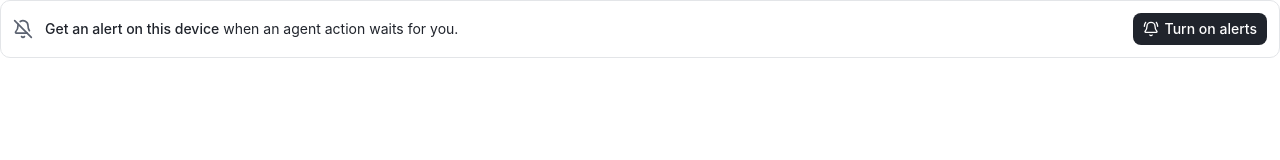
alerts card (task 2.6) › explains a refusal in plain words
The image size is (1280, 160).
Click the button "Turn on alerts" at (1200,29), box 1133,13 -> 1267,45
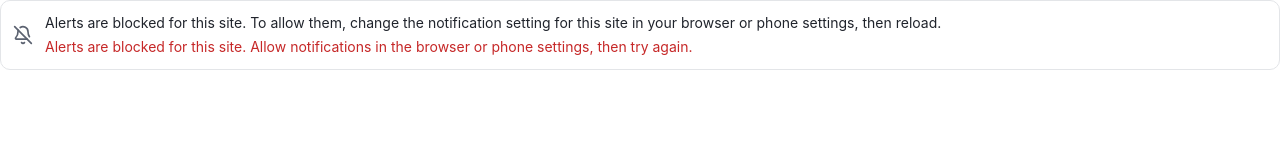
Result: the text with test id "alerts-state" shows "Alerts are blocked for this site" at 45,14 -> 941,31
Result: the message shows "Allow notifications in the browser or phone settings" at 45,38 -> 692,55
